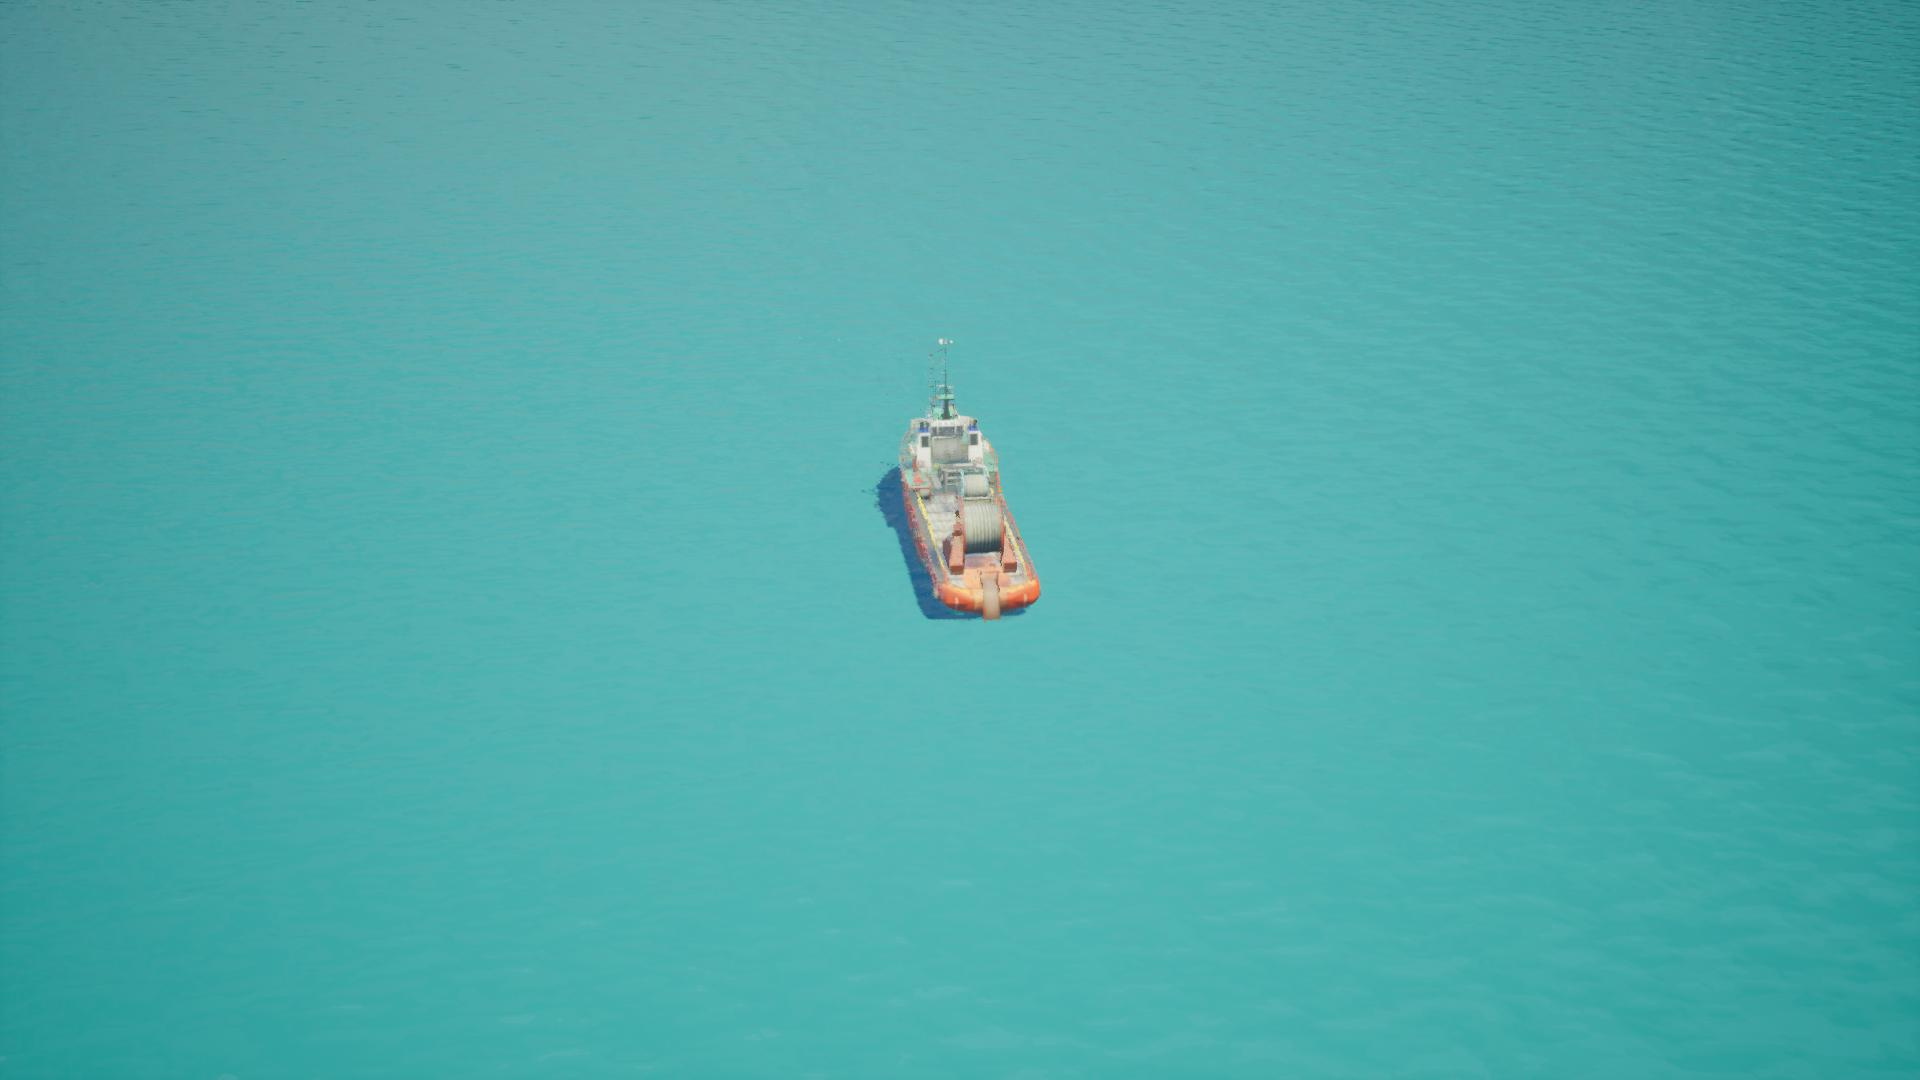Tug Boat: (877, 340, 1046, 621)
